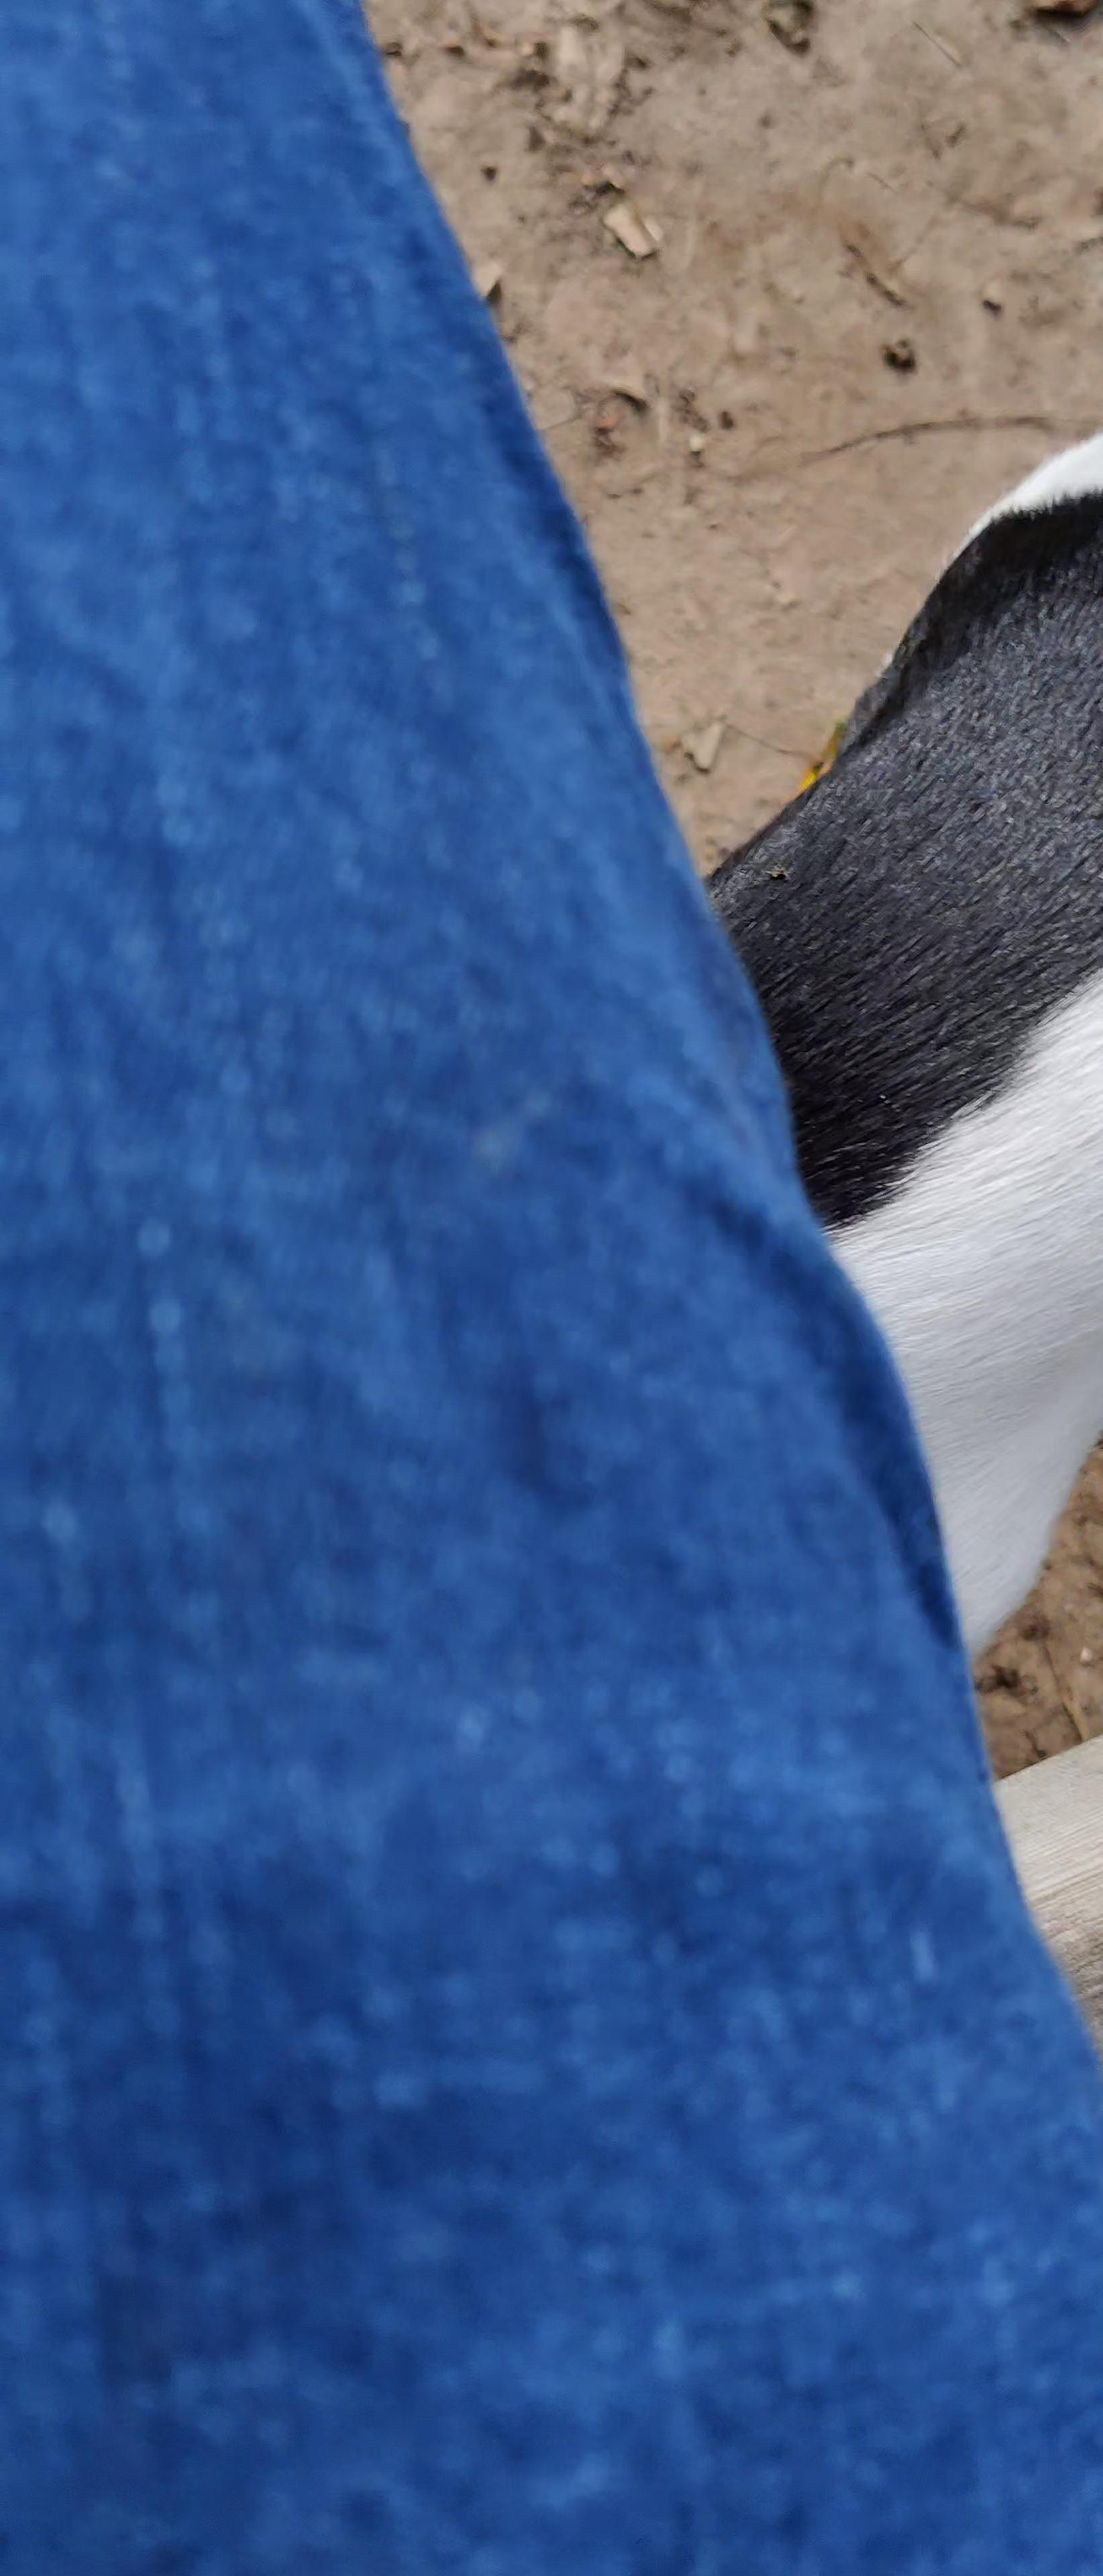Dog: (602, 412, 1103, 1682)
